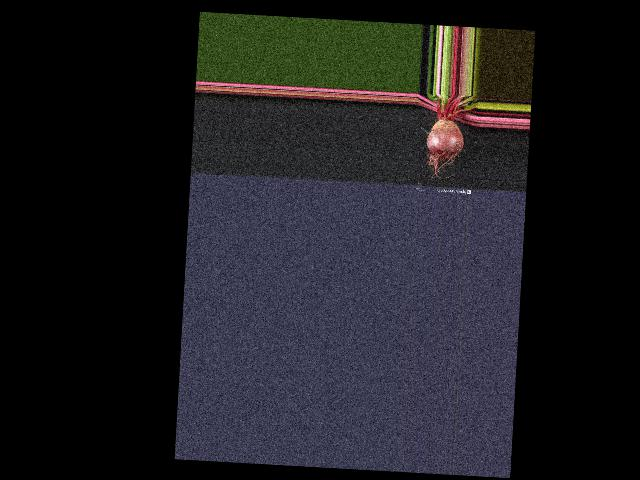beet: (423, 93, 478, 183)
